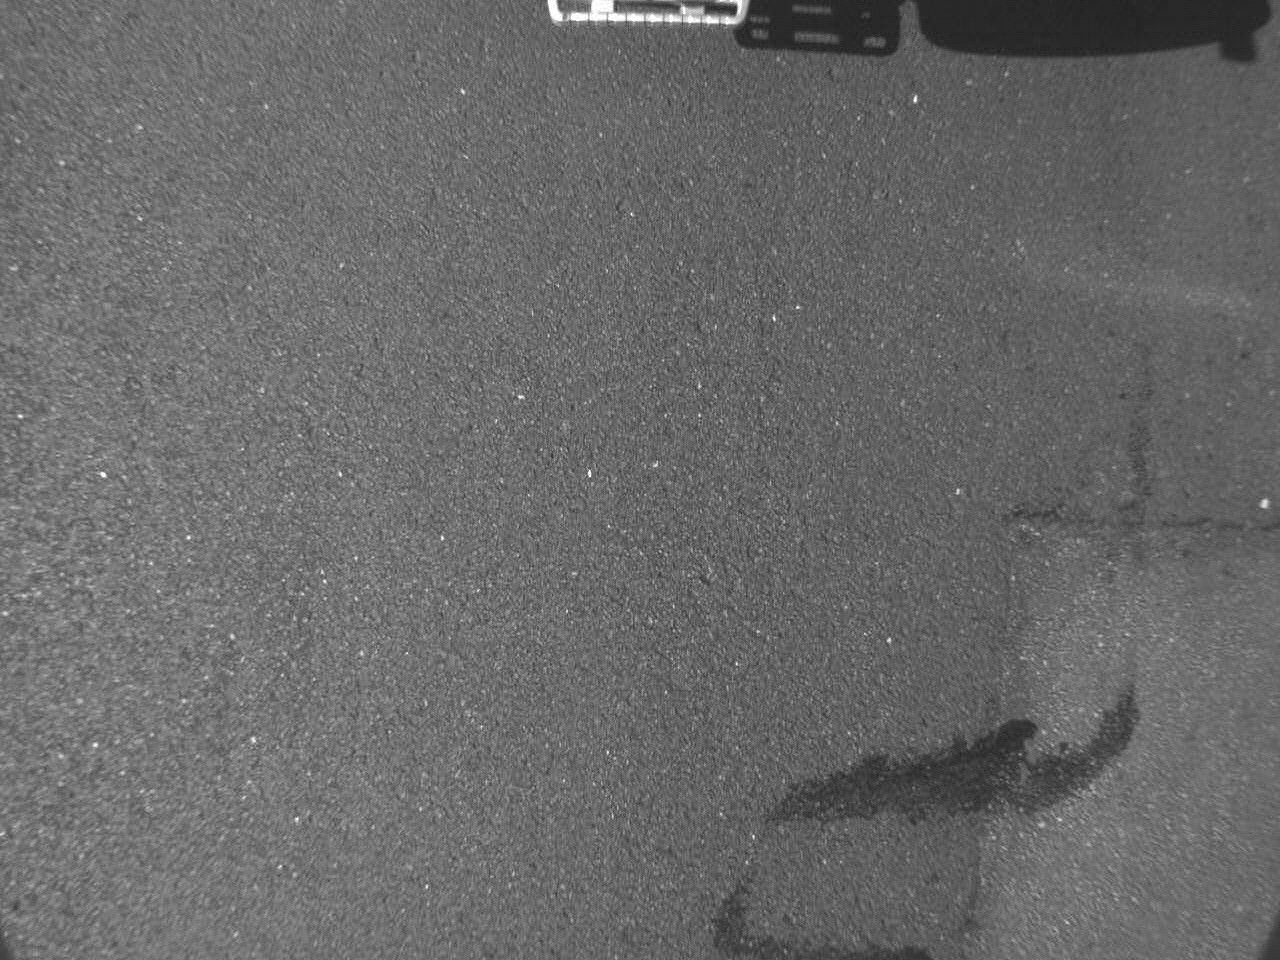sealed: (778, 701, 1132, 830)
